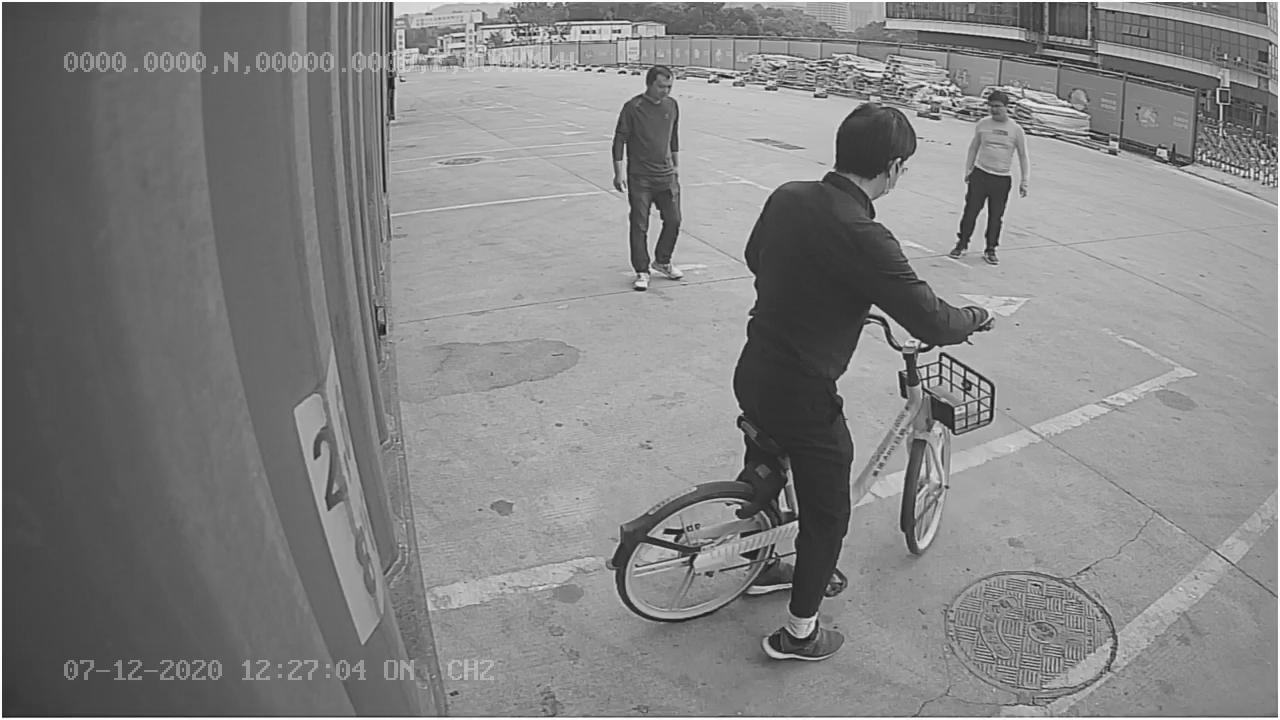person: (601, 62, 692, 299)
